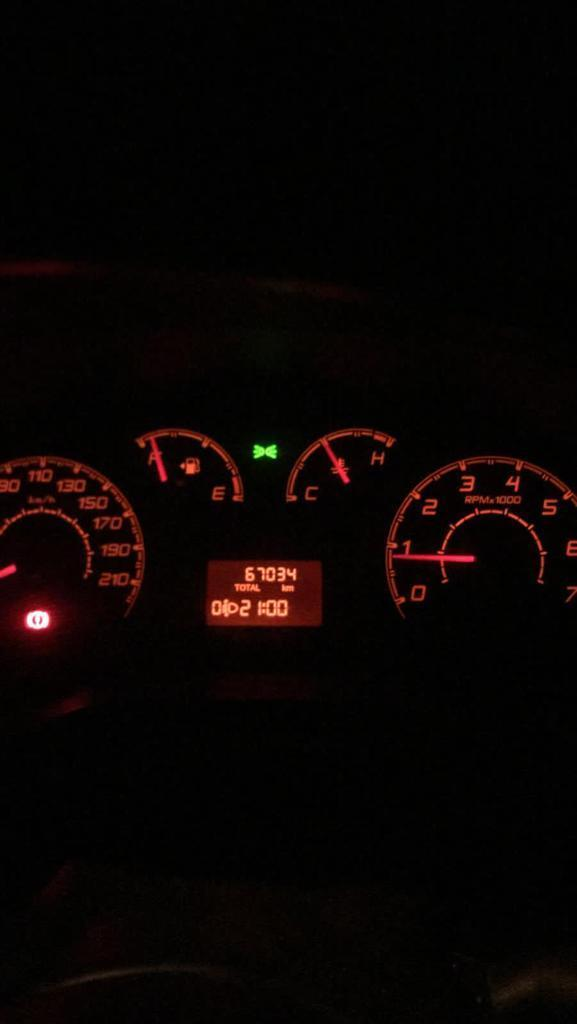0: (276, 597, 289, 617), (210, 598, 221, 617), (266, 598, 275, 617), (265, 565, 275, 582)
1: (255, 598, 261, 616)
2: (239, 597, 249, 617)
3: (276, 565, 285, 581)
4: (286, 566, 295, 580)
6: (243, 565, 255, 581)
7: (256, 565, 264, 581)
X: (261, 600, 265, 615), (286, 584, 294, 591), (233, 582, 239, 591), (255, 583, 261, 591), (281, 583, 286, 592), (240, 582, 245, 591), (250, 583, 255, 591), (245, 582, 249, 591)
odometer: (205, 557, 321, 627)
